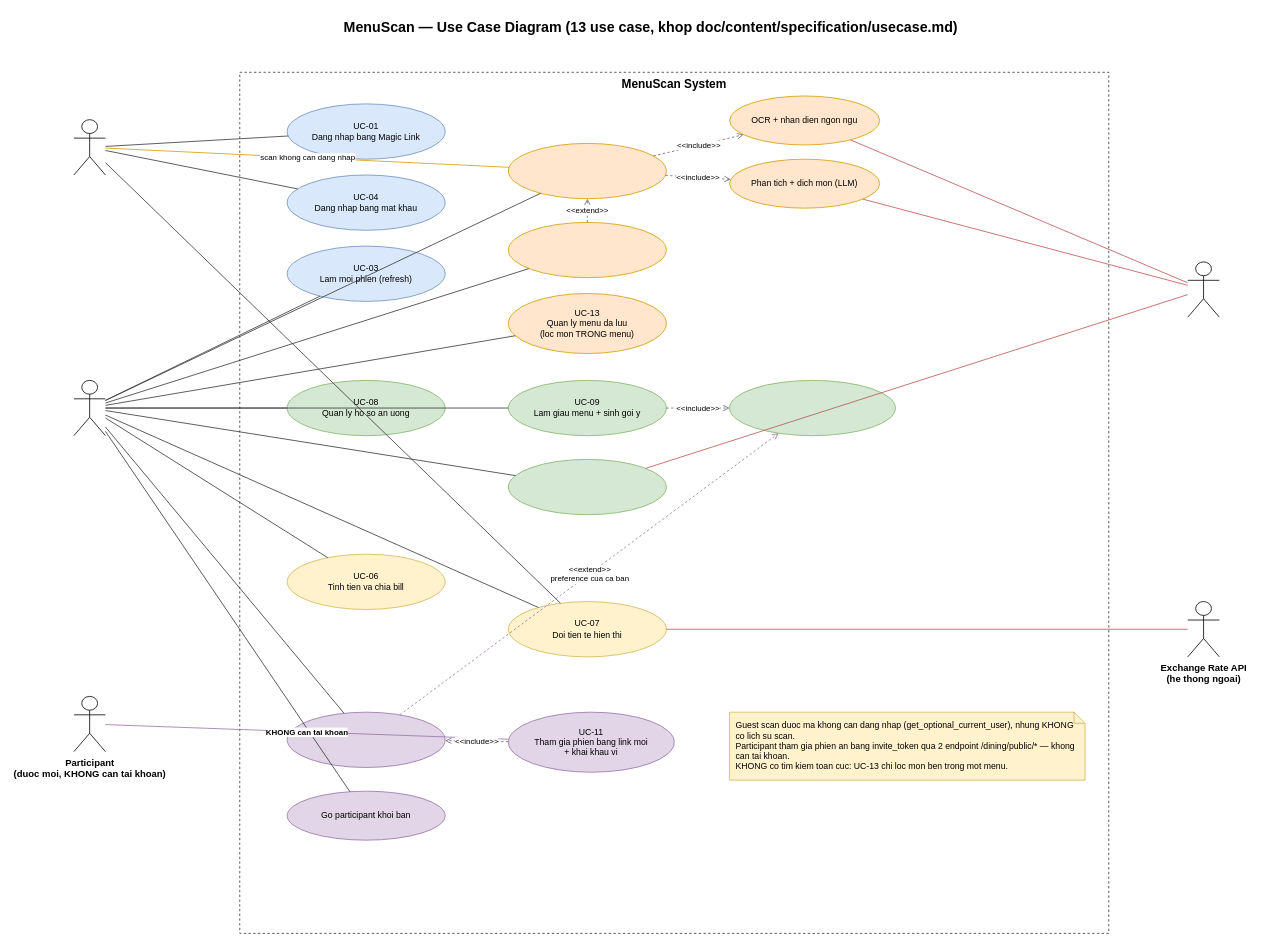
The diagram is 1269 pixels wide and 947 high, and some of its shapes have lost their labels. Each missing label, with the centre of its shape:
Cham verdict theo preference (RECOMMENDED/OK/CAUTION/AVOID): point (812, 408)
Diner (user da dang nhap): point (89, 408)
Gemini / Google Vision (he thong ngoai): point (1203, 289)
Guest (chua dang nhap): point (89, 147)
UC-02 Scan menu: point (587, 171)
UC-05 Chinh sua ket qua scan: point (587, 250)
UC-10 Tao phien an nhom + moi: point (365, 739)
UC-12 Hoi tro ly ve menu: point (587, 487)
